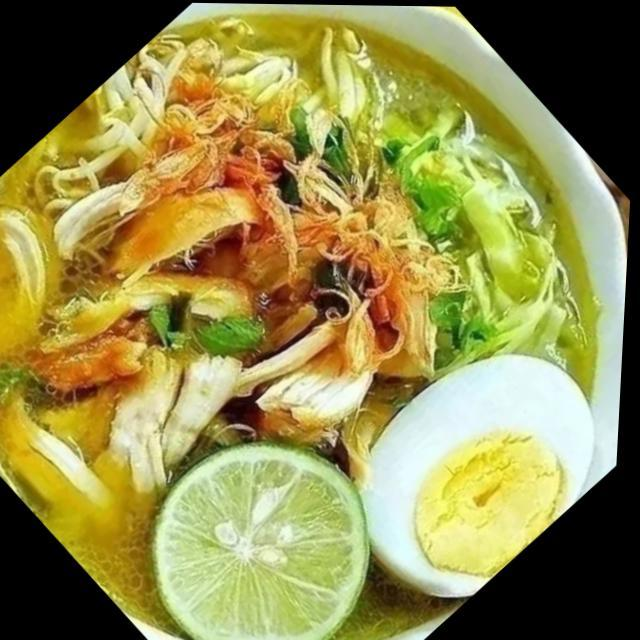Soto: (0, 10, 604, 639)
